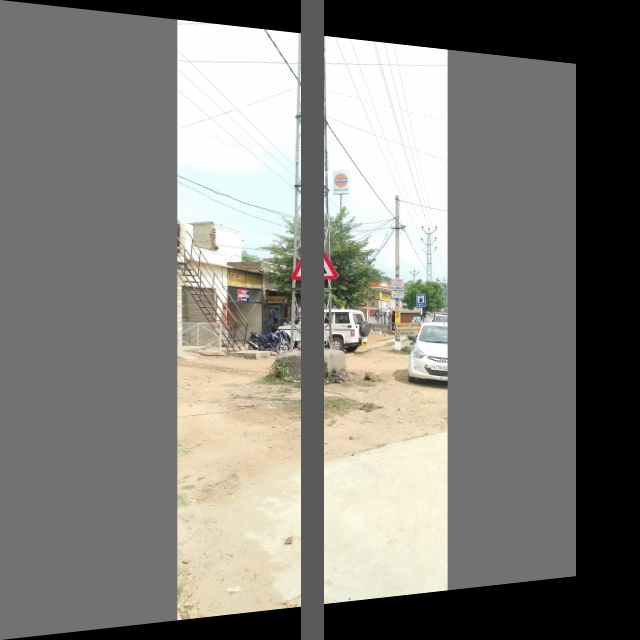Pedestrian_Crossing: (288, 232, 341, 285)
